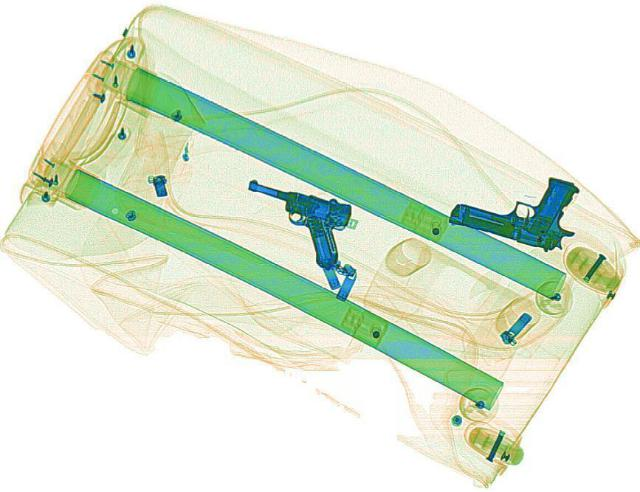Gun: (446, 155, 598, 253), (214, 173, 368, 269)
